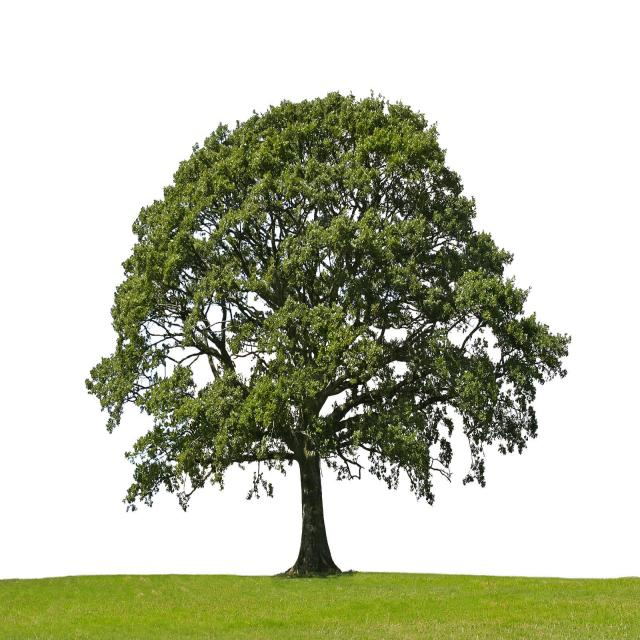Tree: (80, 73, 577, 586)
